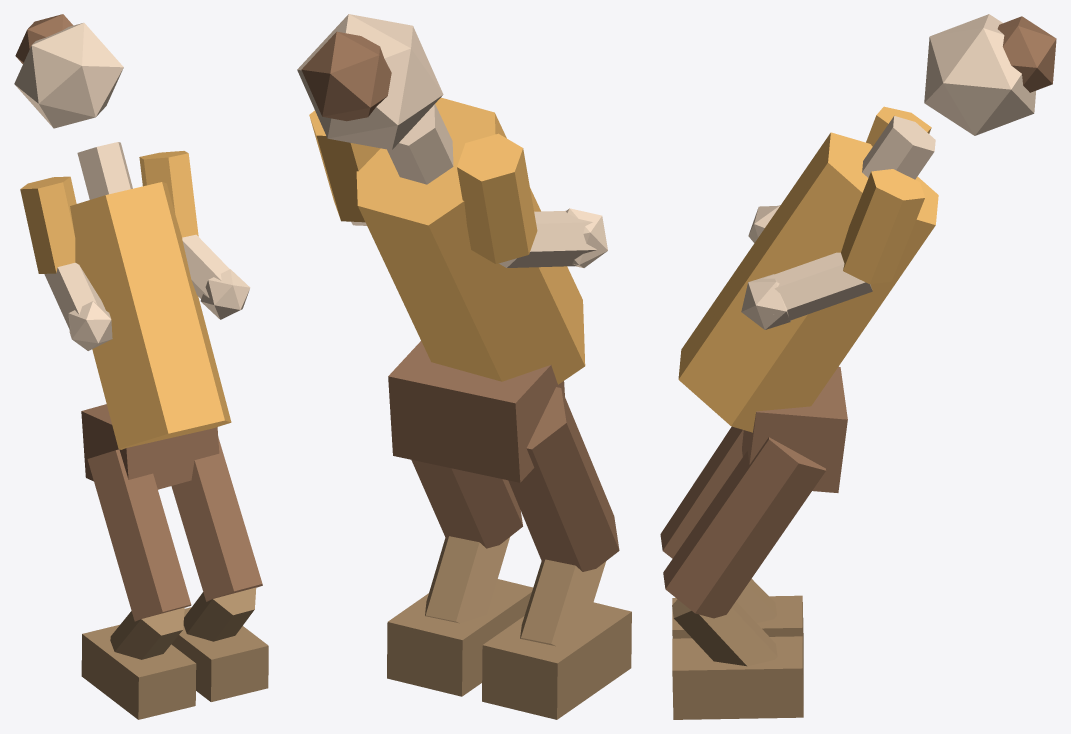
The model's file is pose_hit_light_03.glb.
3 views of the same model, side by side, from view 1: azimuth 30°, elevation 25°; view 2: azimuth 150°, elevation 25°; view 3: azimuth 270°, elevation 25° (orthographic). The views are drawn at different scales.
Parts seen in each view (by area): view 1: pose; view 2: pose; view 3: pose.
Boxes of the visible parts, box(x1,y1,x2,y2) form: pose: box(14, 14, 268, 719); pose: box(297, 14, 631, 719); pose: box(660, 14, 1056, 719).
Size of the model in its own units: 0.4207 by 1.35 by 0.7294.
